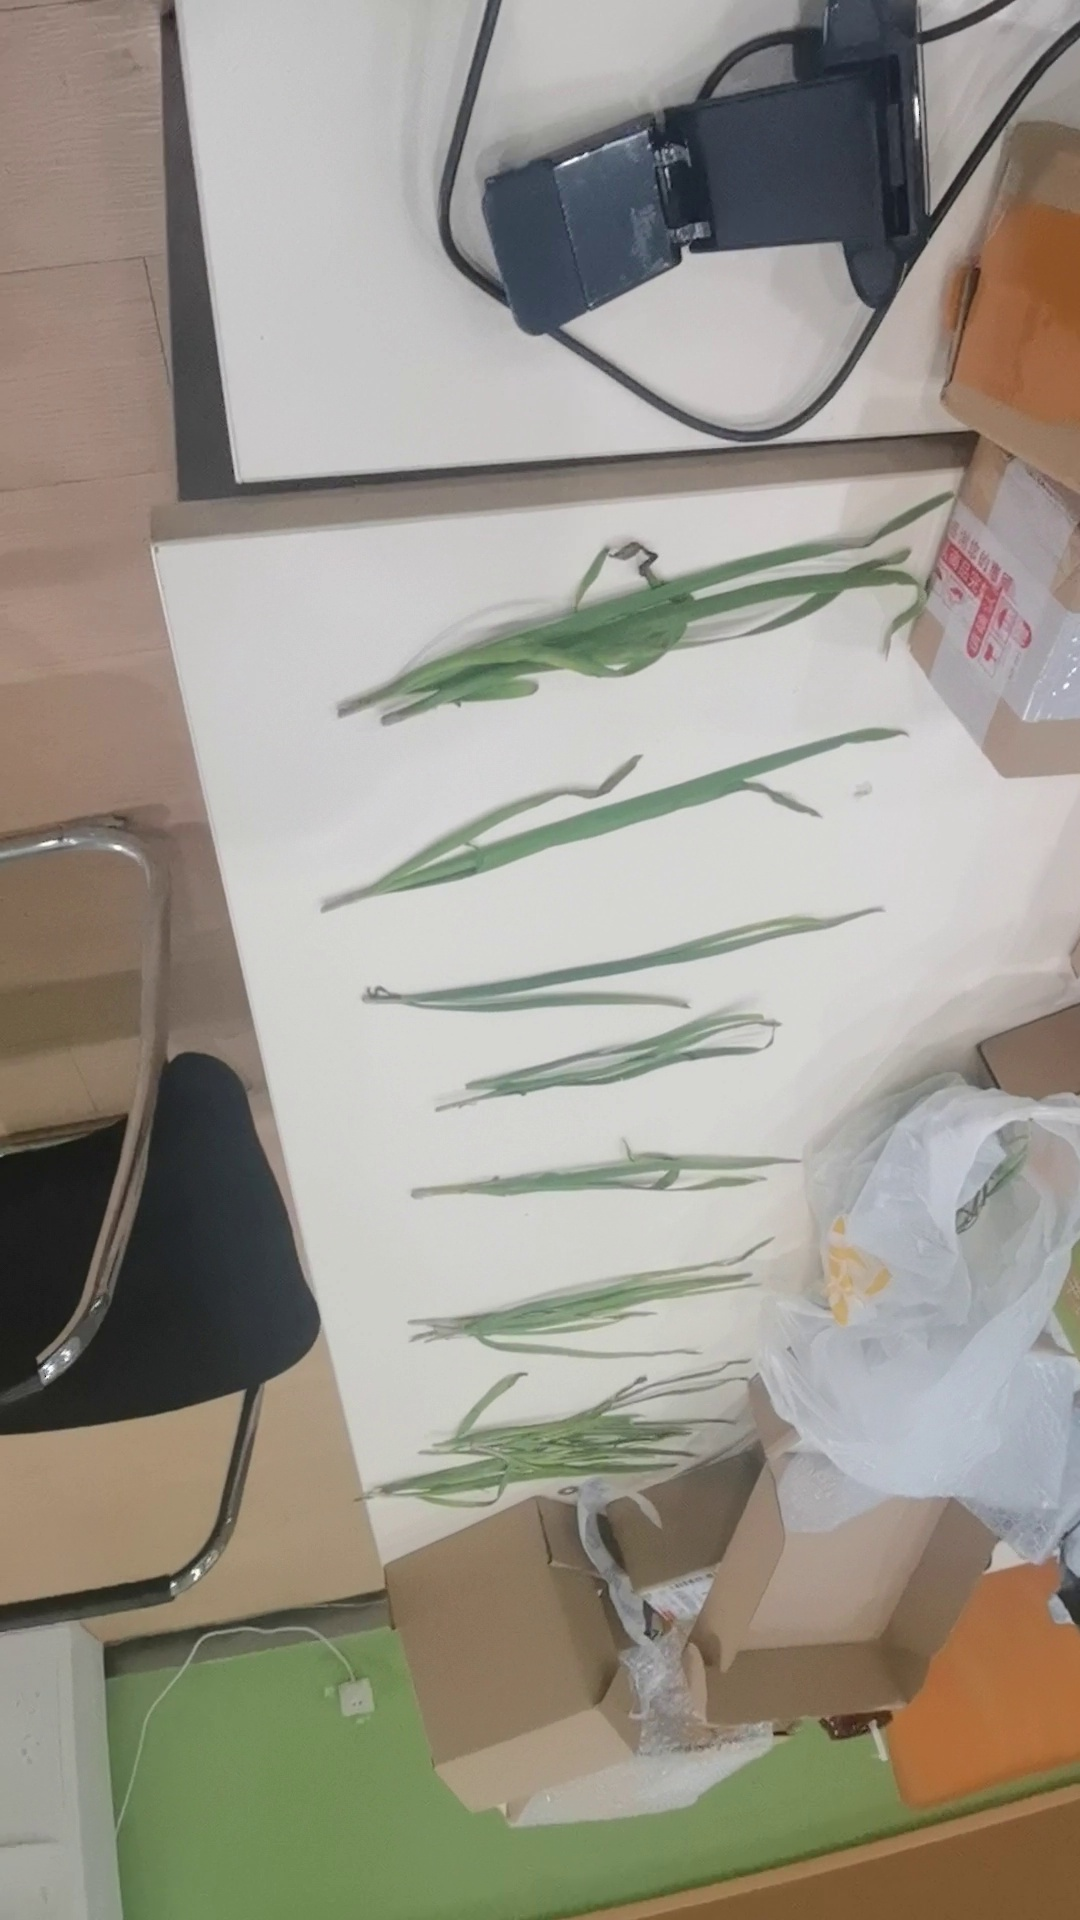chives: (287, 564, 1014, 749), (285, 767, 977, 919), (386, 1374, 787, 1516), (404, 1040, 858, 1133), (394, 1145, 873, 1232), (336, 945, 877, 1017), (406, 1269, 857, 1353)
